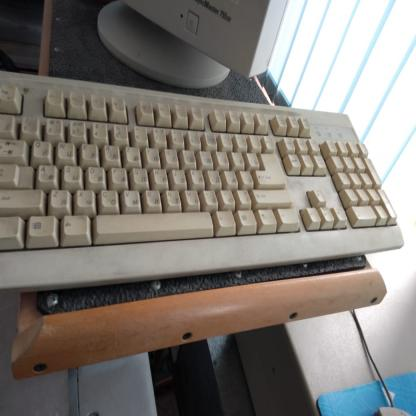keyboard: (0, 107, 354, 248)
